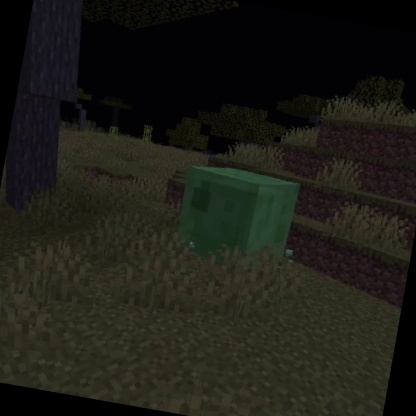slime: (165, 155, 308, 283)
